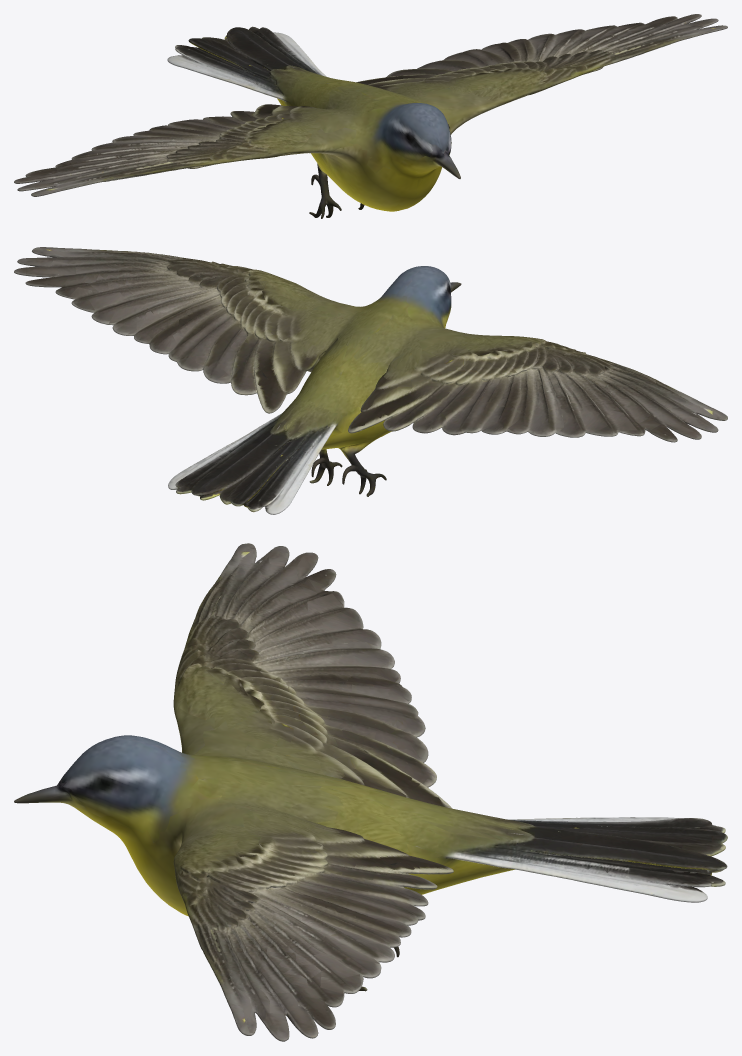
File: Motacilla_flava.glb
The picture shows the model from 3 angles, top to bottom: view 1: azimuth 30°, elevation 25°; view 2: azimuth 150°, elevation 25°; view 3: azimuth 270°, elevation 25°; orthographic projection. The views are drawn at different scales.
Visible parts, largest first — view 1: orient; view 2: orient; view 3: orient.
Boxes of the visible parts, x1,y1,x2,y2 form: orient: (14, 14, 727, 218); orient: (14, 247, 727, 514); orient: (14, 543, 727, 1041).
Bounding box in the file's own units: 0.5 × 0.1117 × 0.3055.
1 material, 1 textured.
